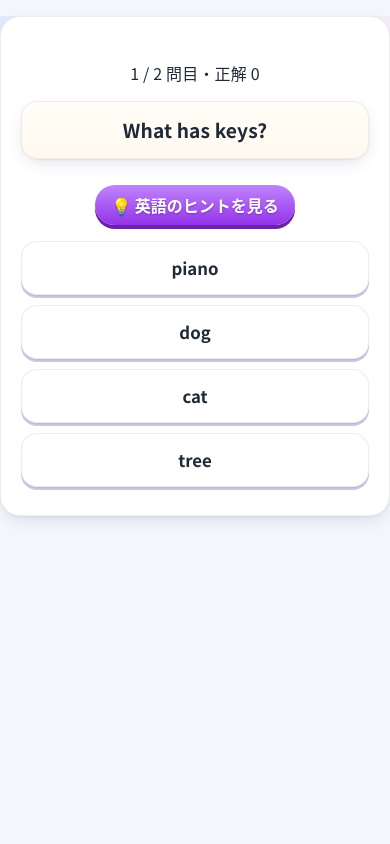
Test: なぞなぞは答える前に「💡 英語のヒントを見る」で1回ヒントが見られる
The image size is (390, 844).
Click the button "💡 英語のヒントを見る" at x=195, y=205, box [95,185,295,225]
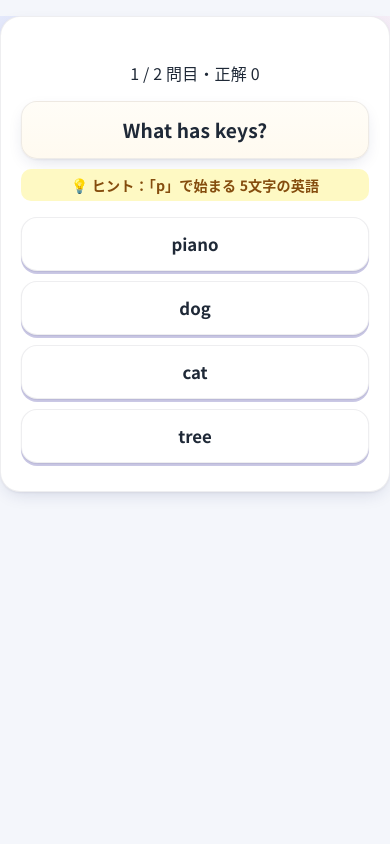
Result: the text "💡 ヒント：「p」で始まる 5文字の英語" is shown at [21,169,369,201]
Click the button "piano" at x=195, y=244, box [21,217,369,271]
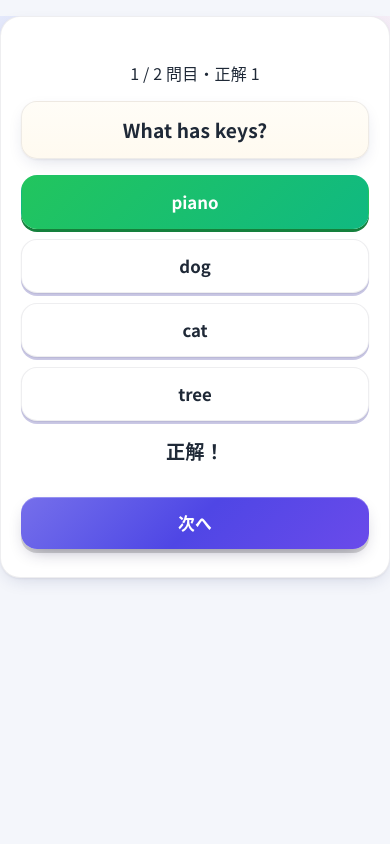
Click the button "次へ" at x=195, y=523, box [21,497,369,549]
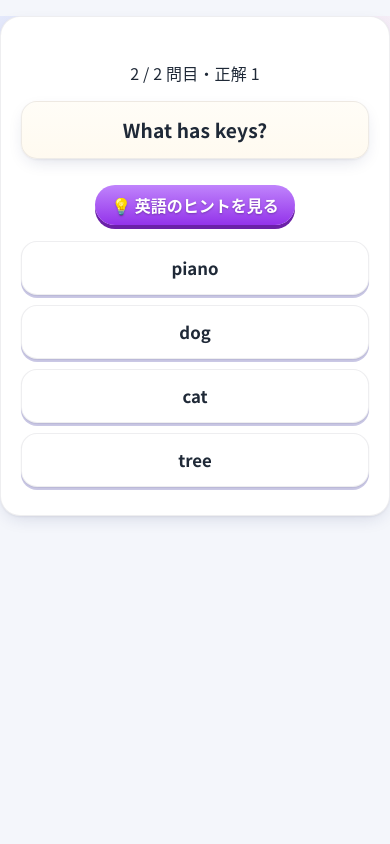
Result: the button "💡 英語のヒントを見る" is shown at [95,185,295,225]
